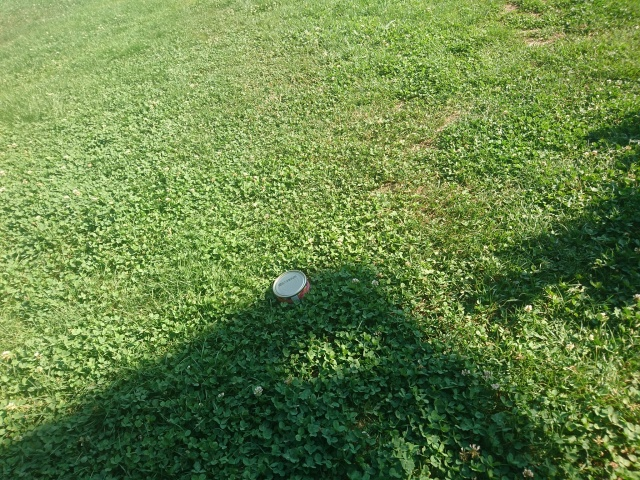Giana Tuna Salad Mexico 185g: (270, 268, 312, 310)
